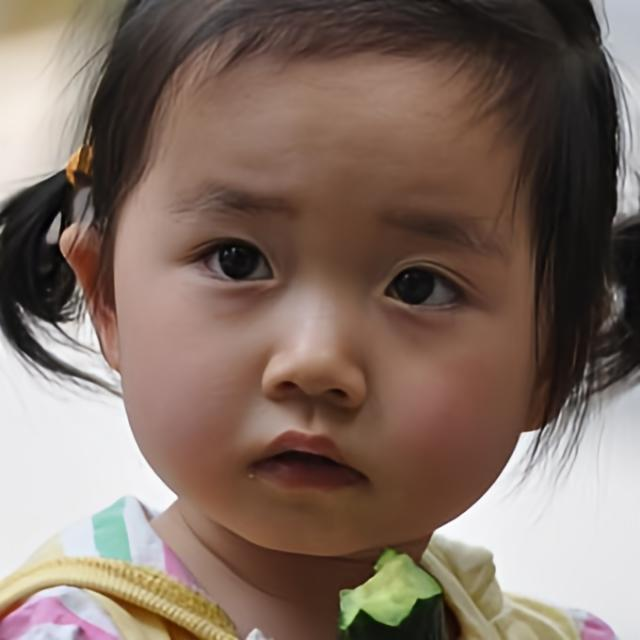fear: (116, 35, 540, 557)
